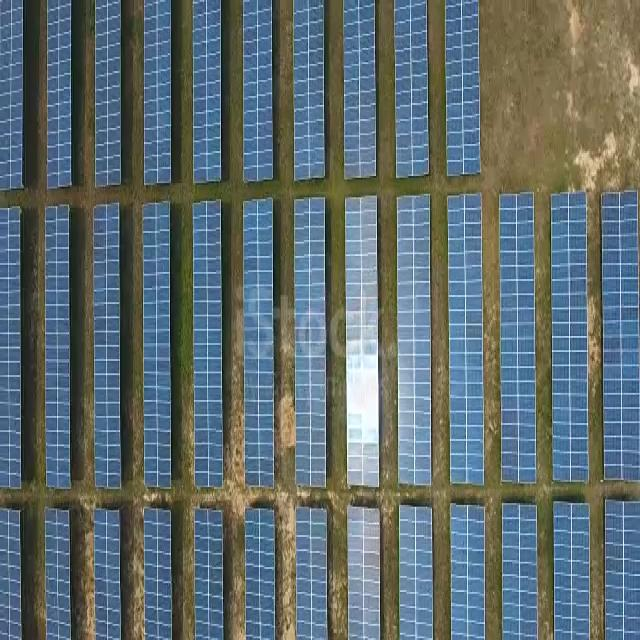solar-panel: (342, 195, 379, 489), (447, 194, 483, 485), (604, 193, 640, 480), (293, 200, 328, 489), (499, 194, 534, 483), (553, 192, 588, 481), (243, 200, 276, 489), (399, 192, 430, 487), (194, 199, 223, 492), (144, 204, 172, 486), (446, 1, 484, 177), (96, 205, 119, 489), (47, 208, 70, 488), (394, 2, 430, 178), (293, 1, 328, 179), (1, 210, 23, 490), (342, 1, 376, 178), (243, 1, 274, 181), (192, 2, 221, 184), (46, 1, 74, 183), (94, 2, 122, 184), (398, 506, 435, 640), (605, 499, 640, 640), (503, 503, 538, 639), (555, 504, 590, 640), (450, 505, 484, 640), (146, 1, 171, 184), (349, 506, 381, 640), (296, 508, 327, 640), (41, 510, 72, 640), (195, 513, 226, 640), (1, 1, 22, 188), (143, 508, 172, 640), (247, 511, 275, 640), (94, 512, 121, 640), (1, 512, 21, 639), (1, 510, 2, 513)
